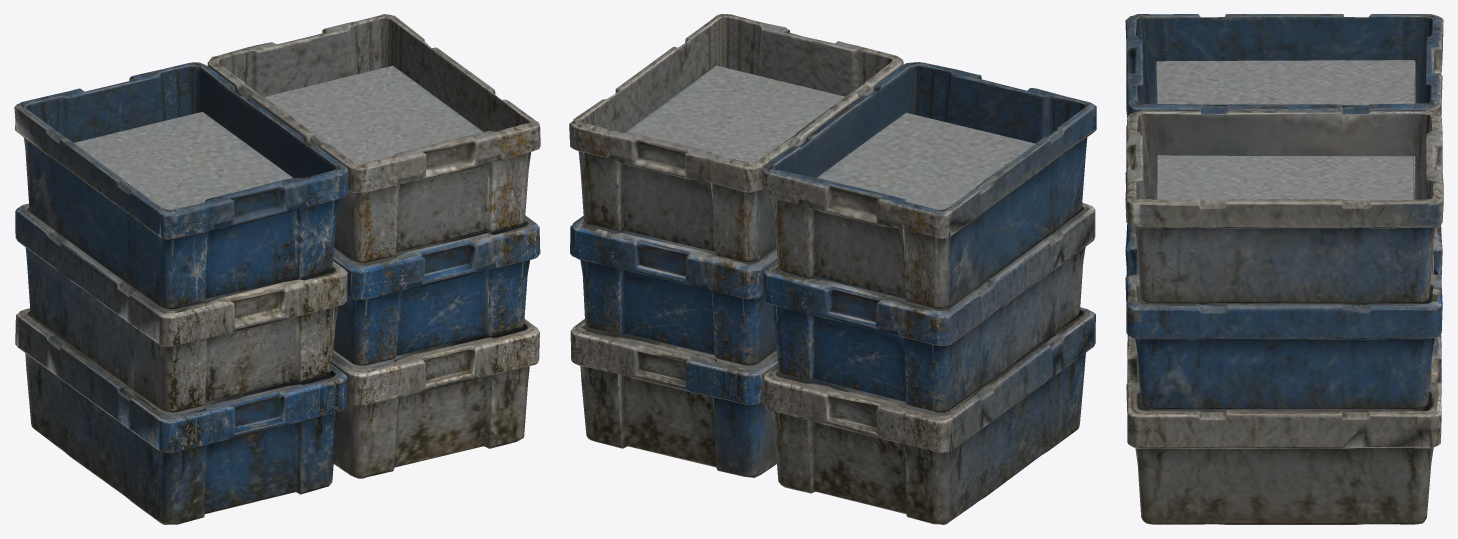
The model's file is fish_crates.glb.
3 renders of one model, left to right at view 1: azimuth 30°, elevation 25°; view 2: azimuth 150°, elevation 25°; view 3: azimuth 270°, elevation 25°, orthographic. The views are drawn at different scales.
Parts seen in each view (by area): view 1: Mesh_0; view 2: Mesh_0; view 3: Mesh_0.
Part boxes in pixels (<box>): Mesh_0: <box>14,14,540,524</box>; Mesh_0: <box>569,14,1096,524</box>; Mesh_0: <box>1125,14,1443,524</box>.
Size of the model in its own units: 1.2 by 0.9703 by 0.8531.
Materials: 1 (1 with a texture image).
